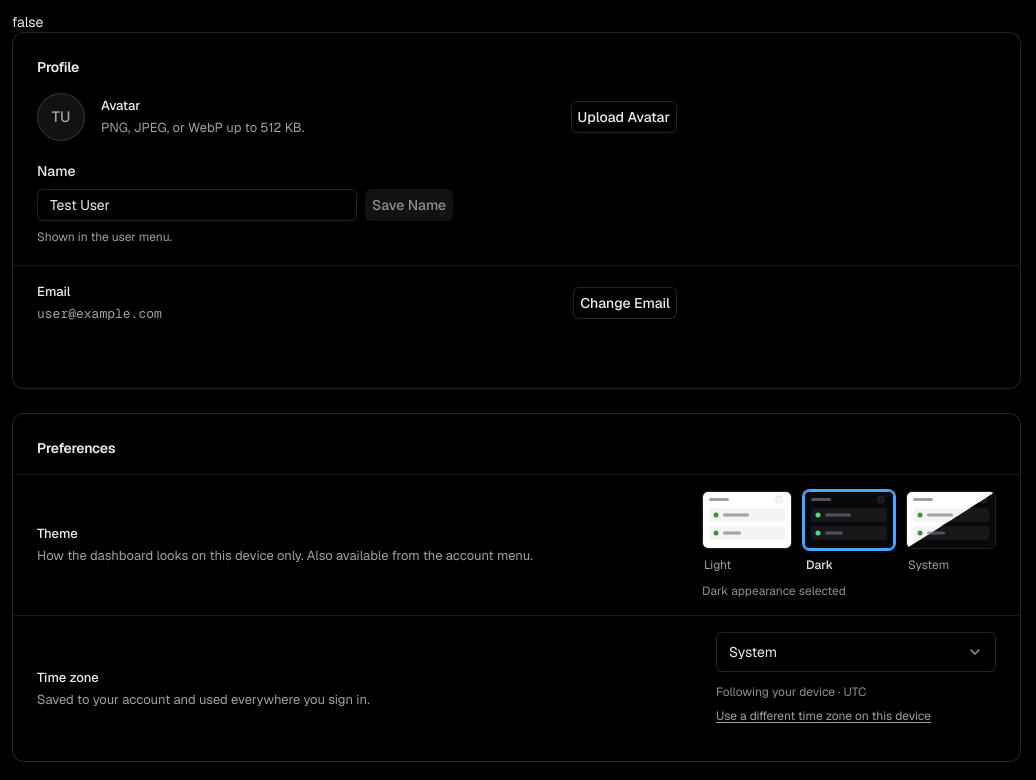
AccountSettings › marks the settings shell dirty when the name is edited
expect the text with test id "dirty" reads "false": met, box left=12, top=13, right=43, bottom=31
Replace the text in the field labelled "Name" with "Someone Else" at (197, 205), box left=37, top=189, right=357, bottom=221
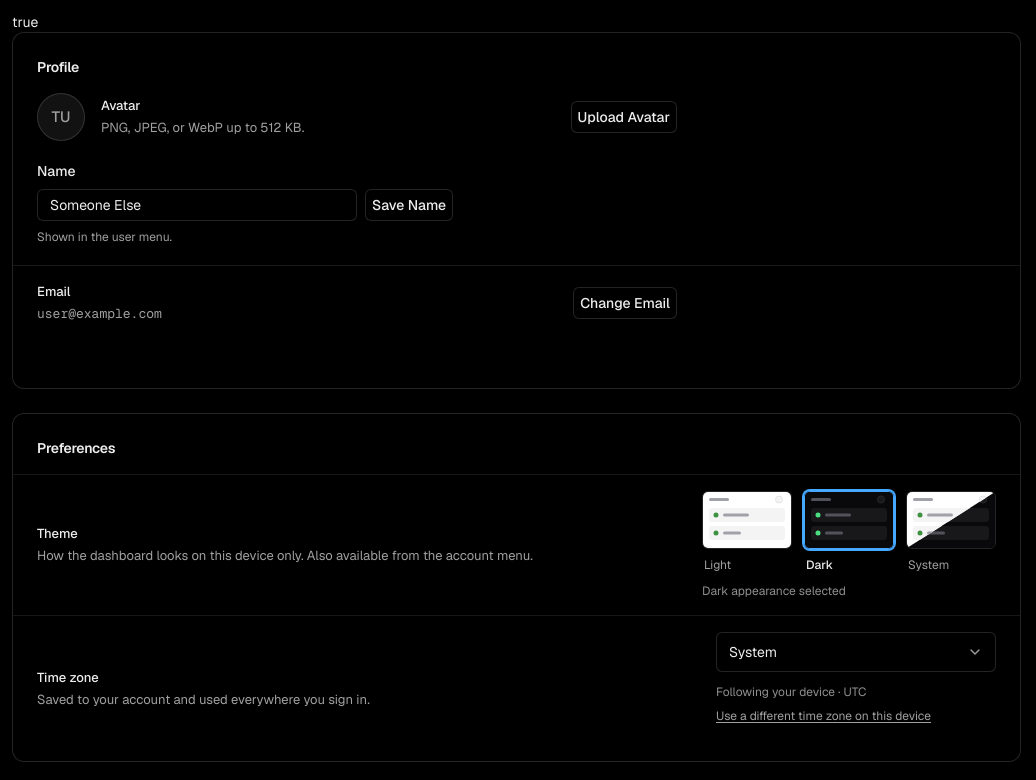
expect the text with test id "dirty" reads "true": met, box left=12, top=13, right=38, bottom=31
